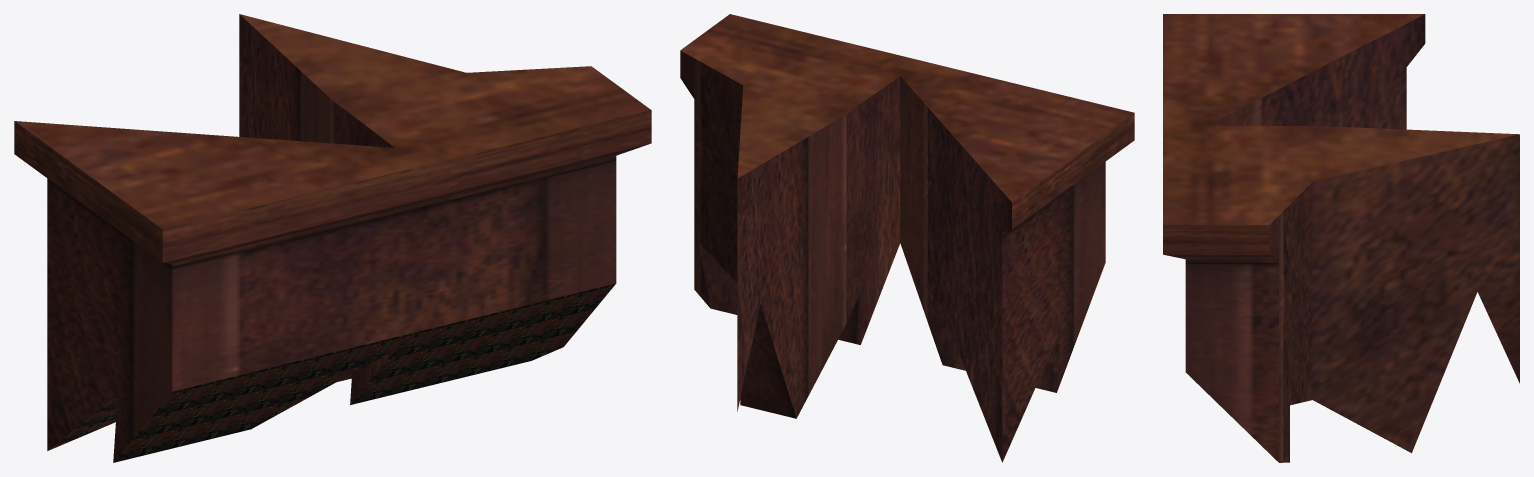
Rendered from pepper_grinder-2_gib1.glb.
3 views of the same model, side by side, from view 1: azimuth 30°, elevation 25°; view 2: azimuth 150°, elevation 25°; view 3: azimuth 270°, elevation 25° (orthographic). The views are drawn at different scales.
Visible parts, largest first — view 1: pepper_grinder-2_gib1; view 2: pepper_grinder-2_gib1; view 3: pepper_grinder-2_gib1.
Part boxes in pixels (<box>): pepper_grinder-2_gib1: <box>14,14,651,462</box>; pepper_grinder-2_gib1: <box>680,14,1134,462</box>; pepper_grinder-2_gib1: <box>1163,14,1519,462</box>.
Size of the model in its own units: 0.174 by 0.1131 by 0.1243.
1 material, 1 textured.
